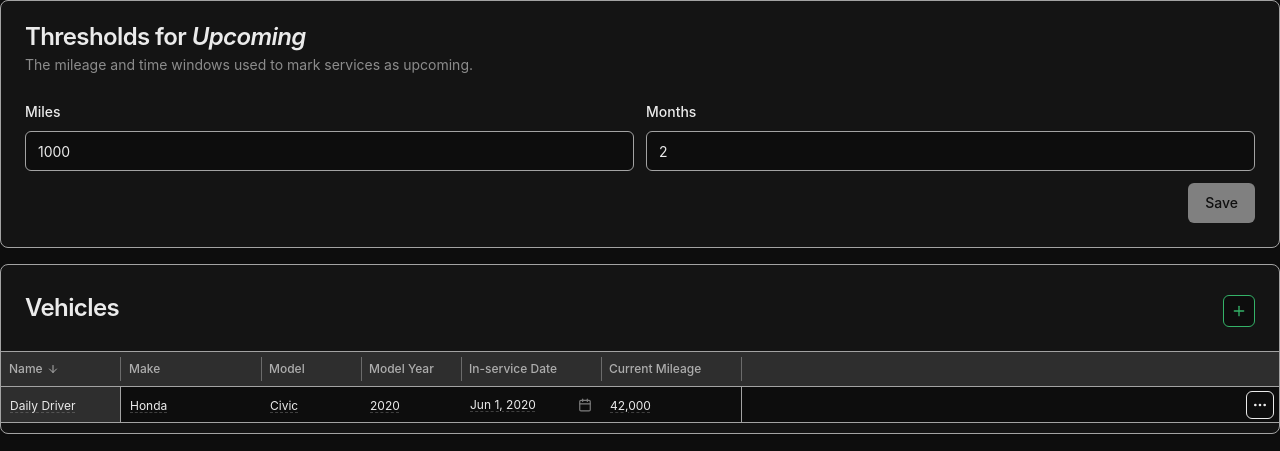
Test case: GarageConfigView vehicles grid › restores the previous name and shows a toast when the grid name cell is cleared and saved
Later steps or results of the test are not shown.
Press the mouse on the 1st field at point(61, 405), box [5,391,117,419]
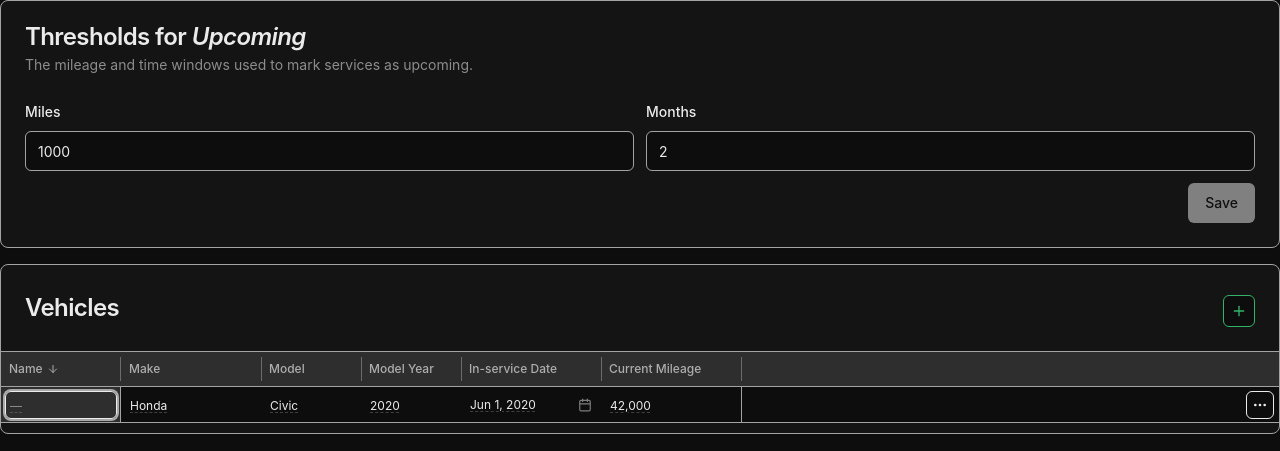
Now the field with placeholder "—" has attribute data-grid-editing="true", box [5,391,117,419]
